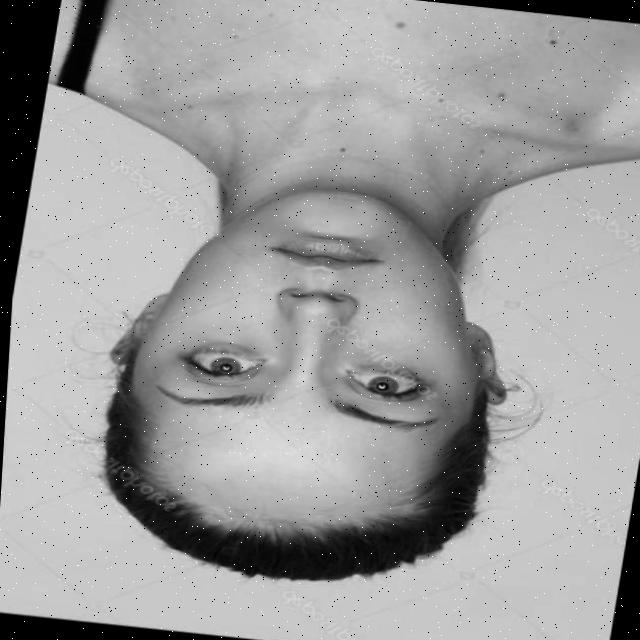puffy_eyes: (171, 332, 261, 359)
